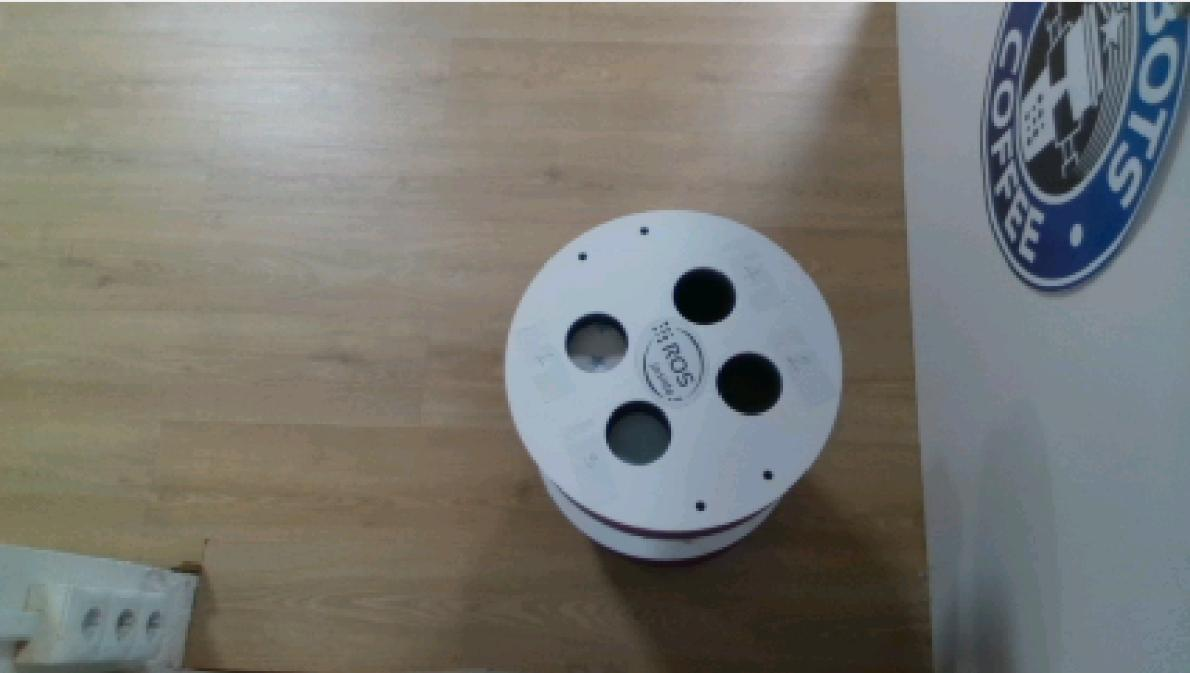hole: (600, 396, 676, 469), (716, 348, 786, 420), (559, 308, 632, 376), (670, 260, 740, 328)
